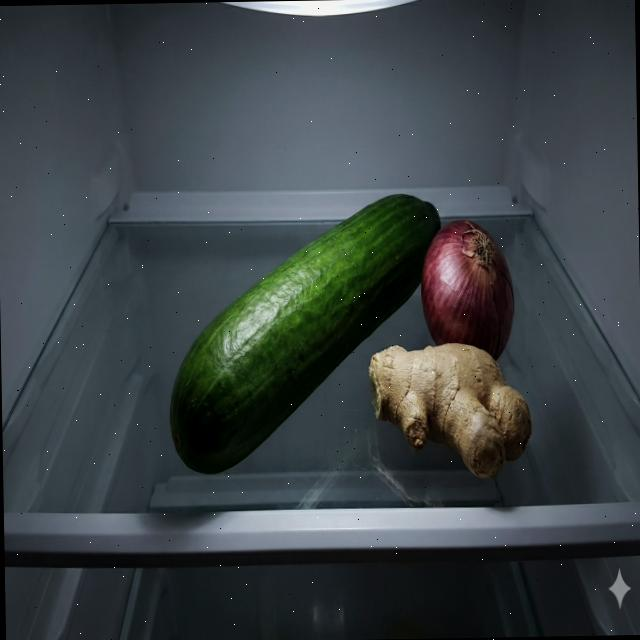cucumber: (166, 194, 443, 474)
ginger: (367, 339, 533, 484)
onion: (422, 218, 516, 362)
